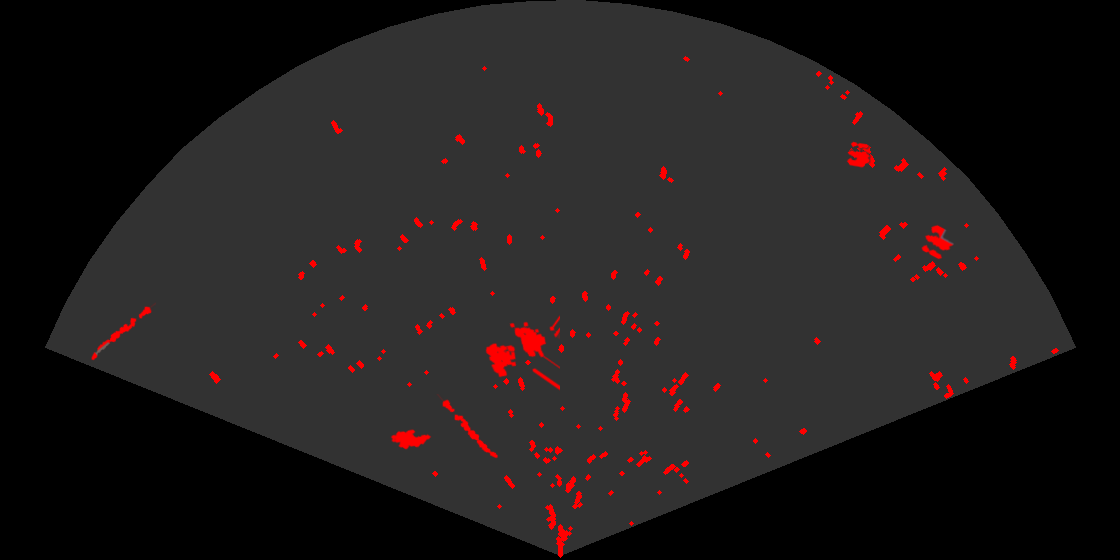AUV: (389, 428, 433, 451)
ball: (920, 223, 955, 261), (845, 140, 872, 169)
cage: (484, 314, 560, 392)
chain: (435, 394, 500, 460), (90, 301, 156, 362)
